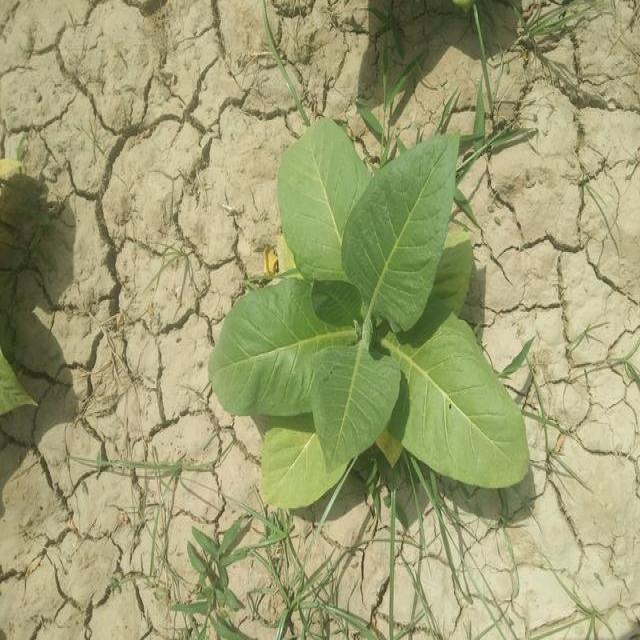crop: (212, 121, 526, 502)
